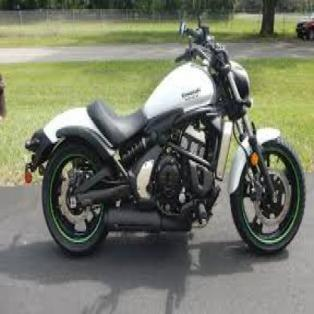Motocicleta: (23, 10, 308, 260)
